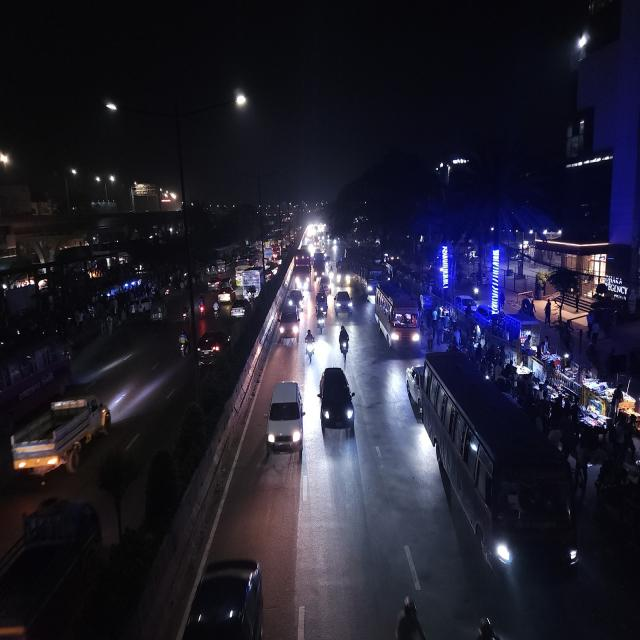bus: (426, 354, 580, 585), (0, 330, 70, 434), (373, 280, 424, 355), (573, 0, 623, 58), (353, 255, 383, 297)
car: (0, 495, 104, 640), (264, 377, 304, 462), (318, 362, 357, 438), (195, 328, 232, 370), (276, 304, 302, 346), (333, 288, 354, 320), (230, 297, 252, 321), (286, 286, 305, 313), (318, 274, 330, 294), (218, 287, 232, 303)
cng: (151, 298, 167, 326), (314, 292, 330, 314)
motorcycle: (336, 324, 353, 362), (303, 327, 316, 366), (177, 326, 191, 359), (196, 292, 208, 318), (316, 311, 329, 335), (211, 298, 221, 320), (180, 304, 190, 325)
pickup_van: (6, 387, 114, 481)
truck: (292, 248, 312, 289), (242, 265, 262, 301)
